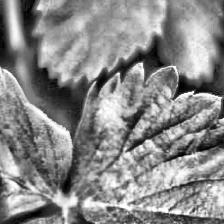Powdery Mildew Leaf: (69, 61, 223, 224), (0, 32, 74, 224)
